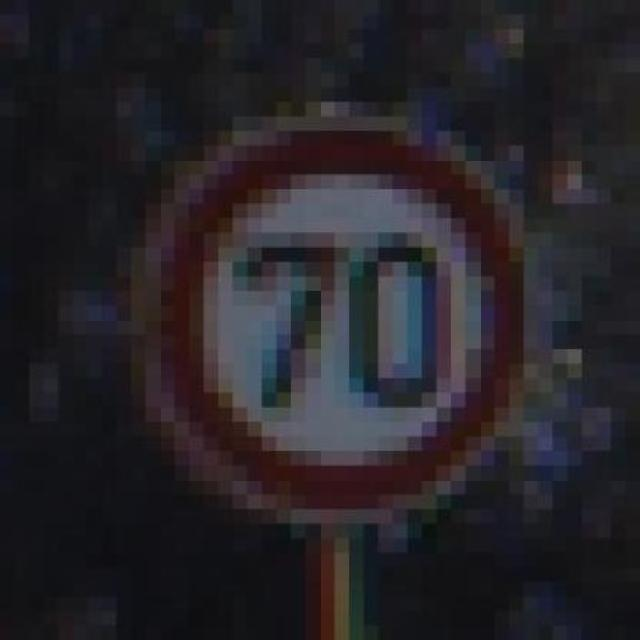forb_speed_over_70: (150, 121, 532, 516)
